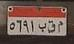1: (30, 19, 35, 32)
5: (9, 20, 15, 31)
6: (16, 19, 22, 32)
9: (23, 19, 29, 33)
baa: (38, 22, 47, 33)
meem: (57, 20, 64, 34)
qaaf: (46, 19, 56, 33)
